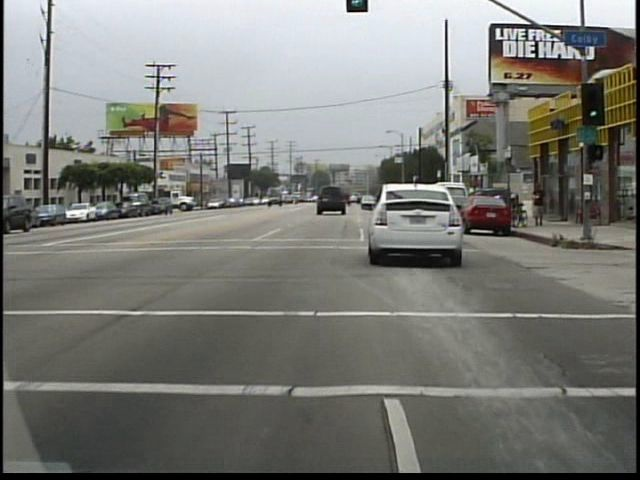person: (530, 178, 551, 232)
